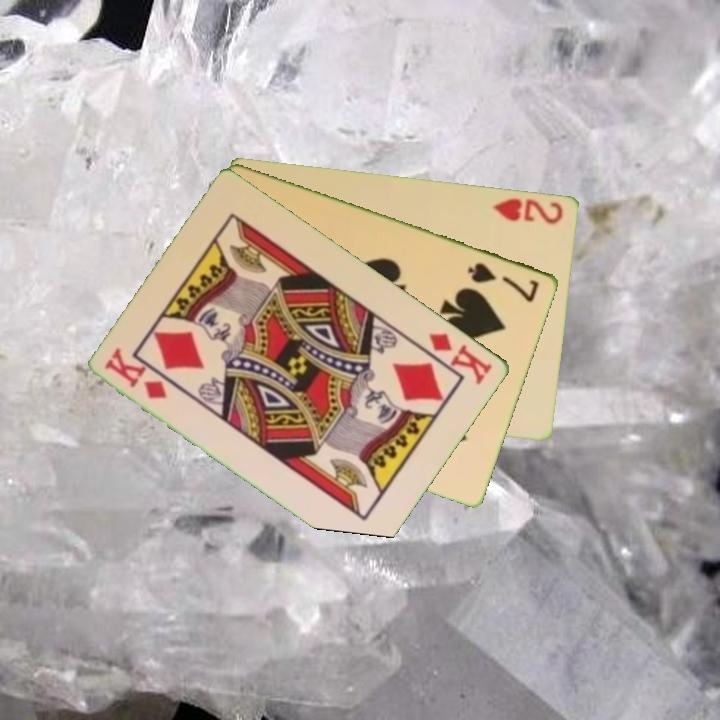2h: (489, 194, 566, 227)
7s: (464, 259, 543, 305)
Kd: (426, 329, 496, 387), (101, 345, 171, 402)
